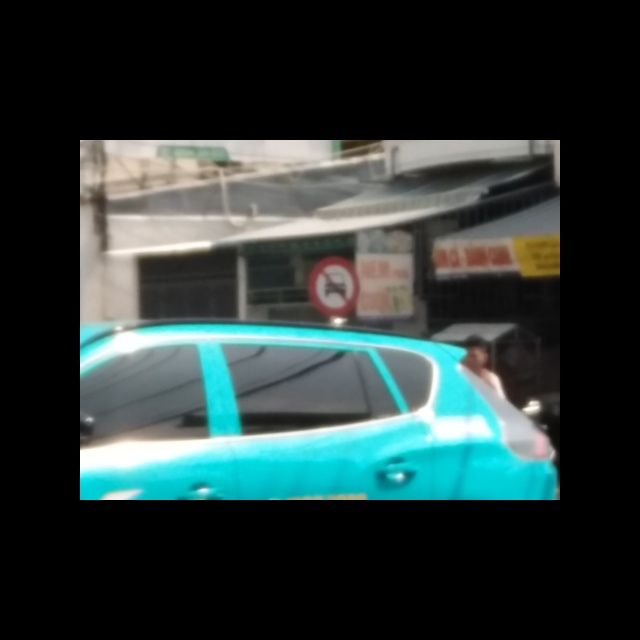Cấm xe ô tô: (306, 257, 360, 315)
